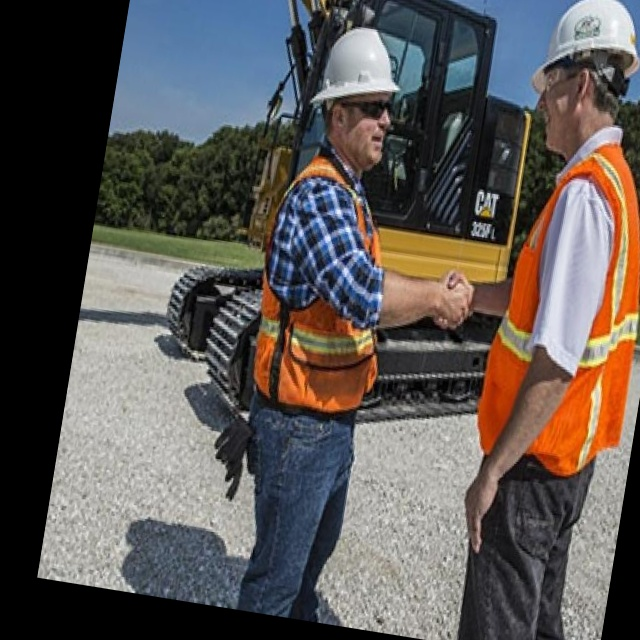Con_Chaleco: (469, 142, 640, 492), (243, 144, 414, 423)
